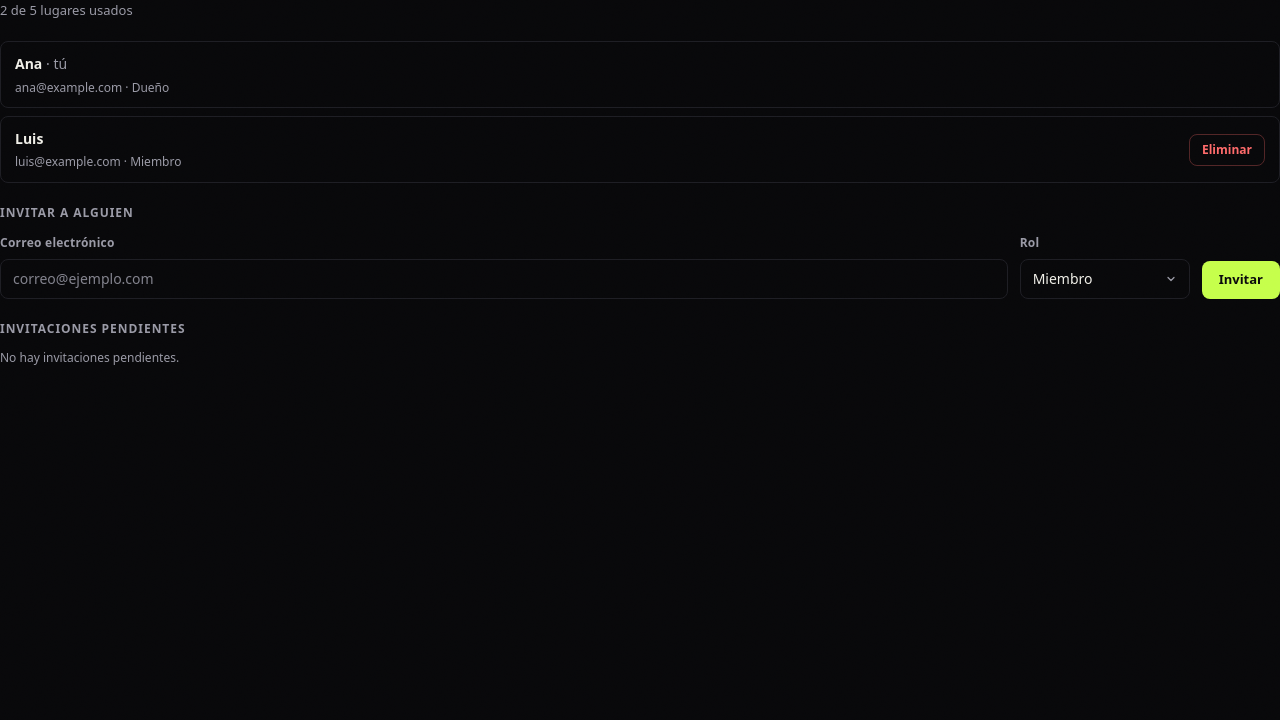
Test case: TeamPanel — eliminar un miembro › cancelar no elimina
Expected: the text "2 de 5 lugares usados" is shown, [0,1,133,19]
Click the button with aria-label "Eliminar a Luis del equipo": (1227,150) [1189,134,1265,166]
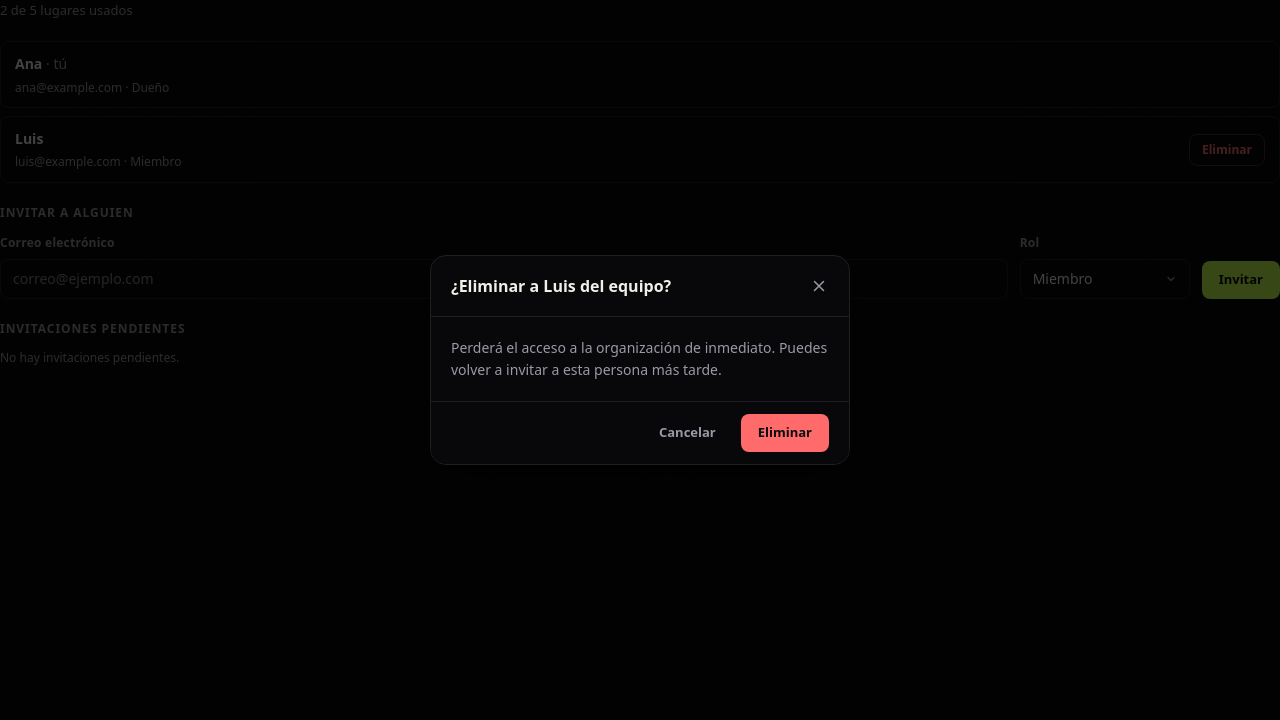
Click the button "Cancelar": (687,433) [642,414,733,452]
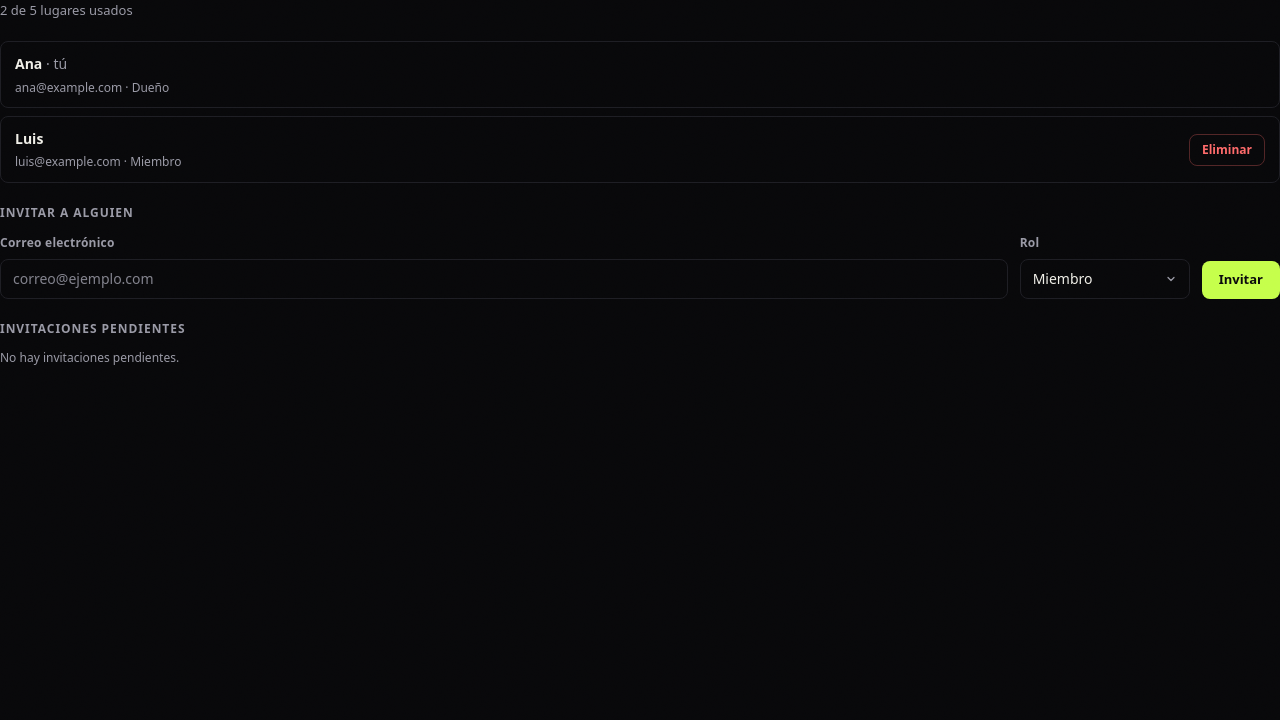
Now the dialog is gone
